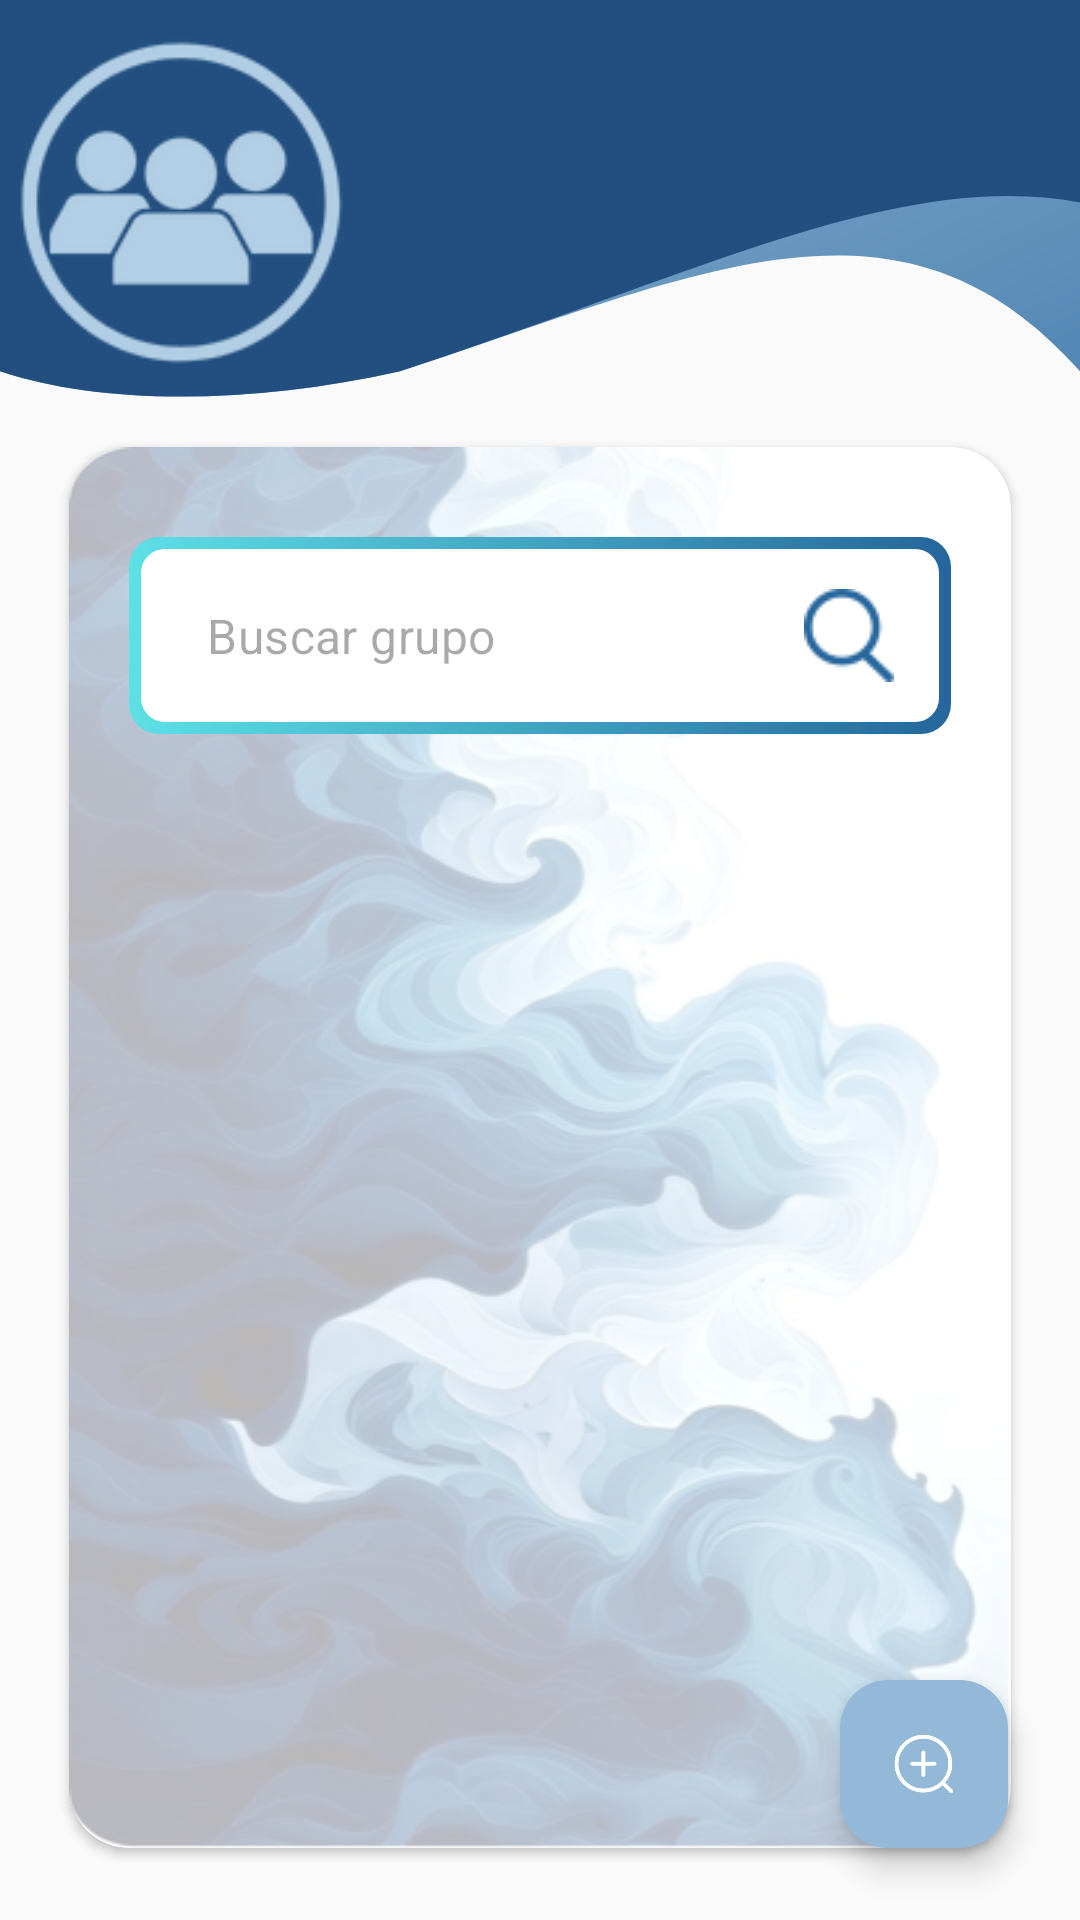

Point at icon controls on the screen. Image size 1080w x 1920h, points as (x=x, y=y).
grupos: (x=181, y=202)
